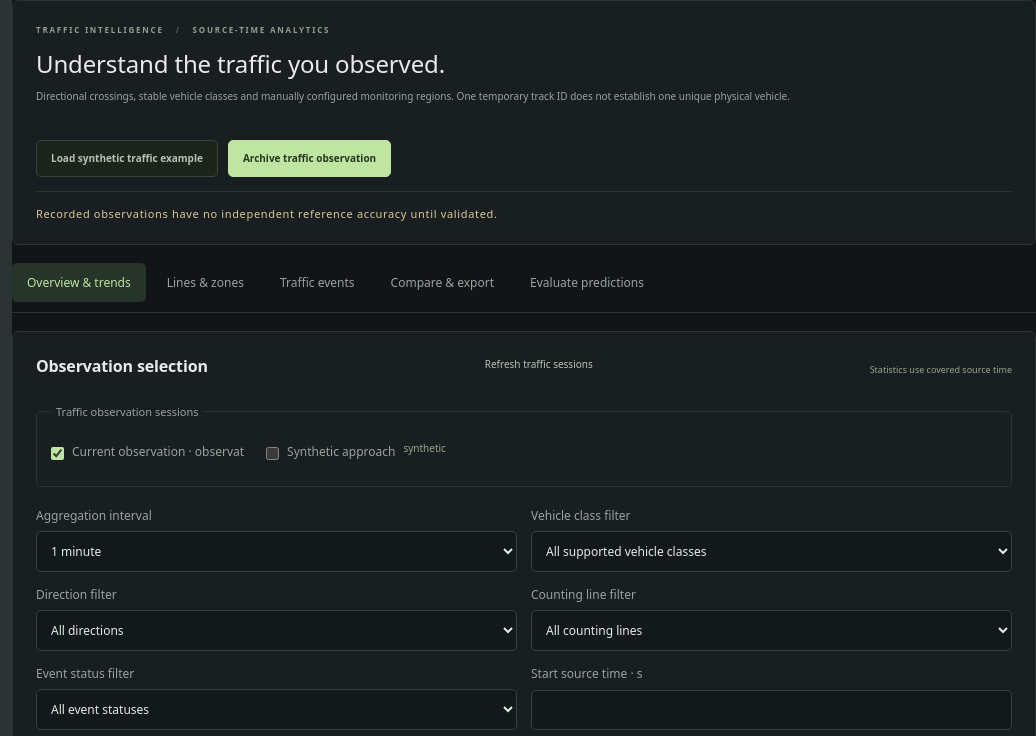
Scenario: Traffic Intelligence workspace › opens synthetic evidence explicitly and selects the archived fixture
Click the button "Load synthetic traffic example": (127, 158) [36, 140, 218, 176]
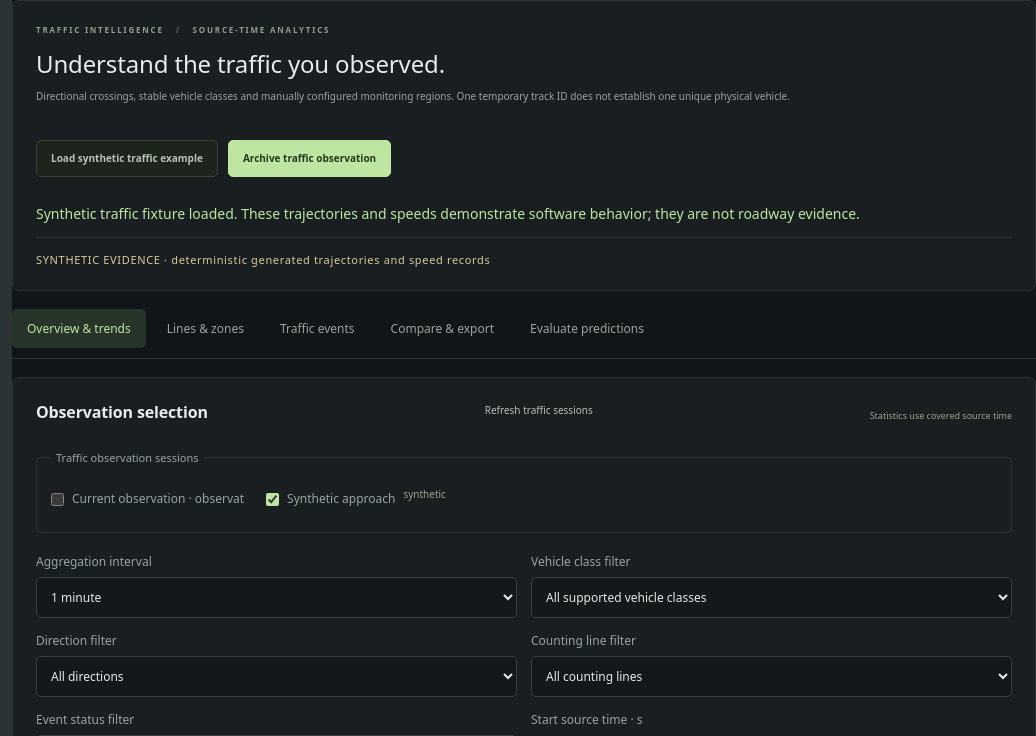
Expected: the text "SYNTHETIC EVIDENCE" is shown, [36, 252, 490, 267]
Expected: the checkbox labelled "Synthetic approach synthetic" is checked, [266, 493, 279, 506]
